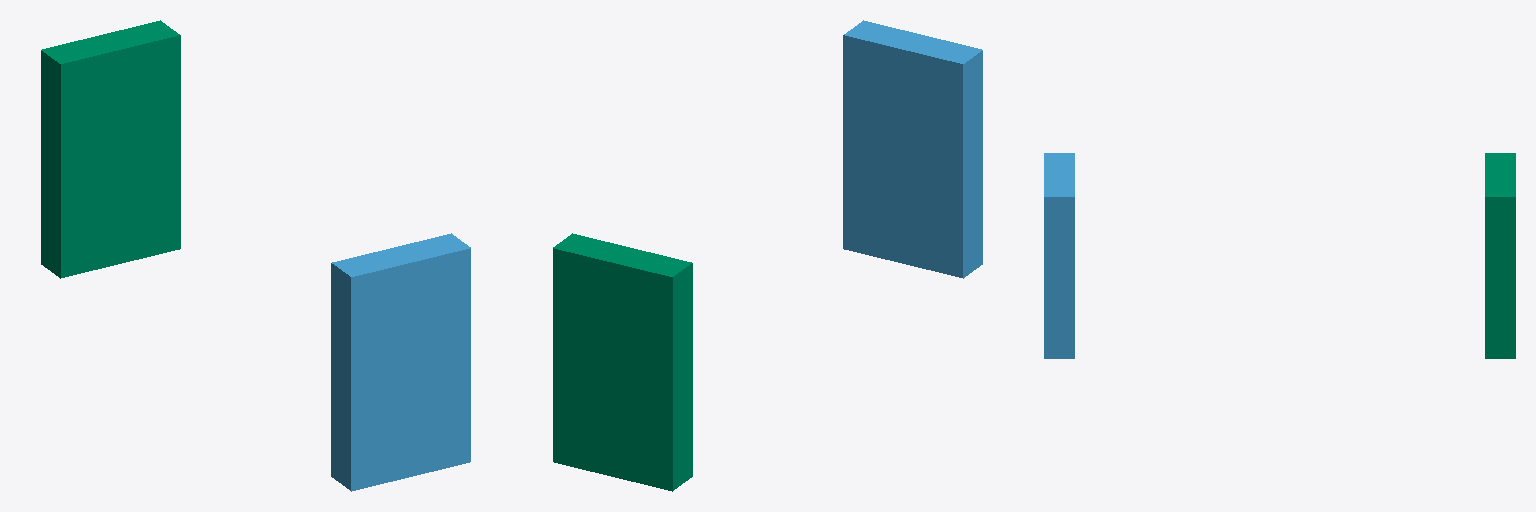
robot.urdf — robotiq_3f:
<?xml version="1.0"?>
<robot name="robotiq_3f">
  <link name="base_link">
    <visual>
      <geometry>
        <mesh filename="robotiq_2f_85/visual/robotiq_arg2f_85_base_linkvn.obj"/>
      </geometry>
      <material name="Black"/>
    </visual>
  </link>

  <joint name="robotiq_85_left_knuckle_joint" type="revolute">
    <parent link="base_link"/>
    <child link="robotiq_85_left_knuckle_link"/>
    <axis xyz="1 0 0"/>
    <origin rpy="0 0.0 3.1415926" xyz="0 -0.0306011 0.054904"/>
    <limit lower="0" upper="0.81" velocity="100.0"/>
  </joint>

  <joint name="robotiq_85_right_knuckle_joint" type="revolute">
    <parent link="base_link"/>
    <child link="robotiq_85_right_knuckle_link"/>
    <axis xyz="1 0 0"/>
    <origin rpy="0.0 0.0 0" xyz="0 0.0306011 0.054904"/>
    <limit lower="0" upper="0.81" velocity="100.0"/>
  </joint>

  <link name="robotiq_85_left_knuckle_link">
    <visual>
      <geometry>
        <mesh filename="robotiq_2f_85/visual/robotiq_arg2f_85_outer_knucklevn.obj"/>
      </geometry>
    <material name="Black"/>
    </visual>
  </link>

  <link name="robotiq_85_right_knuckle_link">
    <visual>
      <geometry>
        <mesh filename="robotiq_2f_85/visual/robotiq_arg2f_85_outer_knucklevn.obj"/>
      </geometry>
      <material name="Black"/>
    </visual>
  </link>


  <joint name="robotiq_85_left_finger_joint" type="fixed">
    <parent link="robotiq_85_left_knuckle_link"/>
    <child link="robotiq_85_left_finger_link"/>
    <origin rpy="0 0 0" xyz="0 0.0315 -0.0041"/>
    <limit lower="-3.14" upper="3.14" velocity="100.0"/>
  </joint>

  <joint name="robotiq_85_right_finger_joint" type="fixed">
    <parent link="robotiq_85_right_knuckle_link"/>
    <child link="robotiq_85_right_finger_link"/>
    <origin rpy="0 0 0" xyz="0 0.0315 -0.0041"/>
    <limit lower="-3.14" upper="3.14" velocity="100.0"/>
  </joint>

  <link name="robotiq_85_left_finger_link">
    <visual>
      <geometry>
        <mesh filename="robotiq_2f_85/visual/robotiq_arg2f_85_outer_fingervn.obj"/>
      </geometry>
      <material name="Black"/>
    </visual>
  </link>

  <link name="robotiq_85_right_finger_link">
    <visual>
      <geometry>
        <mesh filename="robotiq_2f_85/visual/robotiq_arg2f_85_outer_fingervn.obj"/>
      </geometry>
      <material name="Black"/>
    </visual>
  </link>

  <joint name="robotiq_85_left_inner_knuckle_joint" type="revolute">
    <parent link="base_link"/>
    <child link="robotiq_85_left_inner_knuckle_link"/>
    <axis xyz="1 0 0"/>
    <origin rpy="0 0.0 0" xyz="0 0.0127 0.06142"/>
    <limit lower="0" upper="0.8757" velocity="100.0"/>
  </joint>


  <joint name="robotiq_85_right_inner_knuckle_joint" type="revolute">
    <parent link="base_link"/>
    <child link="robotiq_85_right_inner_knuckle_link"/>
    <axis xyz="1 0 0"/>
    <origin rpy="0 0 3.1415926" xyz="0 -0.0127 0.06142"/>
    <limit lower="0" upper="0.8757" velocity="100.0"/>
  </joint>

  <link name="robotiq_85_left_inner_knuckle_link">
    <visual>
      <geometry>
        <mesh filename="robotiq_2f_85/visual/robotiq_arg2f_85_inner_knucklevn.obj"/>
      </geometry>
      <material name="Black"/>
    </visual>
  </link>

  <link name="robotiq_85_right_inner_knuckle_link">
    <visual>
     <geometry>
        <mesh filename="robotiq_2f_85/visual/robotiq_arg2f_85_inner_knucklevn.obj"/>
      </geometry>
      <material name="Black"/>
    </visual>
  </link>

  <joint name="robotiq_85_left_finger_tip_joint" type="revolute">
    <parent link="robotiq_85_left_finger_link"/>
    <child link="robotiq_85_left_finger_tip_link"/>
    <axis xyz="1 0 0"/>
    <origin rpy="0.0 0.0 0.0" xyz="0 0.0061 0.0471"/>
    <limit lower="0" upper="-0.8" velocity="100.0"/>
  </joint>

  <joint name="robotiq_85_right_finger_tip_joint" type="revolute">
    <parent link="robotiq_85_right_finger_link"/>
    <child link="robotiq_85_right_finger_tip_link"/>
    <axis xyz="1 0 0"/>
    <origin rpy="0.0 0.0 0.0" xyz="0 0.0061 0.0471"/>
    <limit lower="0" upper="-0.8" velocity="100.0"/>
  </joint>

  <link name="robotiq_85_left_finger_tip_link">
    <visual>
      <geometry>
        <mesh filename="robotiq_2f_85/visual/robotiq_arg2f_85_inner_fingervn.obj"/>
      </geometry>
      <material name="Gray"/>
    </visual>
  </link>

  <link name="robotiq_85_right_finger_tip_link">
    <visual>
      <geometry>
        <mesh filename="robotiq_2f_85/visual/robotiq_arg2f_85_inner_fingervn.obj"/>
      </geometry>
    </visual>
  </link>

  <joint name="robotiq_2f_85_left_inner_finger_pad_joint" type="fixed">
      <origin xyz="0 -0.0220203446692936 0.03242" rpy="0 0 0"/>
      <parent link="robotiq_85_left_finger_tip_link" />
      <child link="robotiq_2f_85_left_inner_finger_pad" />
      <axis xyz="0 0 1" />
  </joint>

  <joint name="robotiq_2f_85_right_inner_finger_pad_joint" type="fixed">
      <origin xyz="0 -0.0220203446692936 0.03242" rpy="0 0 0"/>
      <parent link="robotiq_85_right_finger_tip_link" />
      <child link="robotiq_2f_85_right_inner_finger_pad" />
      <axis xyz="0 0 1" />
  </joint>

  <link name="robotiq_2f_85_left_inner_finger_pad">
      <visual>
        <origin xyz="0 0 0" rpy="0 0 0" />
        <geometry>
          <box size="0.022 0.00635 0.0375"/>
        </geometry>
      </visual>
    </link>


    <link name="robotiq_2f_85_right_inner_finger_pad">
      <visual>
        <origin xyz="0 0 0" rpy="0 0 0" />
        <geometry>
          <box size="0.022 0.00635 0.0375"/>
        </geometry>
      </visual>
    </link>
</robot>

--- Render facts (derived) ---
3 views of the same robot in one strip: view 1: azimuth 30°, elevation 25°; view 2: azimuth 150°, elevation 25°; view 3: azimuth 270°, elevation 25° (orthographic).
Model robotiq_3f with 11 links and 10 joints (6 revolute, 4 fixed), rooted at base_link, posed every joint at zero.
Visible links, largest first — view 1: robotiq_2f_85_left_inner_finger_pad, robotiq_2f_85_right_inner_finger_pad; view 2: robotiq_2f_85_left_inner_finger_pad, robotiq_2f_85_right_inner_finger_pad; view 3: robotiq_2f_85_left_inner_finger_pad, robotiq_2f_85_right_inner_finger_pad.
Link boxes in pixels (bbox=[...]): robotiq_2f_85_left_inner_finger_pad: bbox=[331, 233, 470, 491]; robotiq_2f_85_right_inner_finger_pad: bbox=[41, 20, 180, 278]; robotiq_2f_85_left_inner_finger_pad: bbox=[843, 20, 982, 278]; robotiq_2f_85_right_inner_finger_pad: bbox=[553, 233, 692, 491]; robotiq_2f_85_left_inner_finger_pad: bbox=[1044, 153, 1074, 358]; robotiq_2f_85_right_inner_finger_pad: bbox=[1485, 153, 1515, 358].
Size in the robot's own frame: 0.022 by 0.0987 by 0.0375 metres.
Meshes: 5 distinct files referenced, 0 mesh visuals loaded (none loaded); not drawn: 9 (reference not matched to a file when rendering).